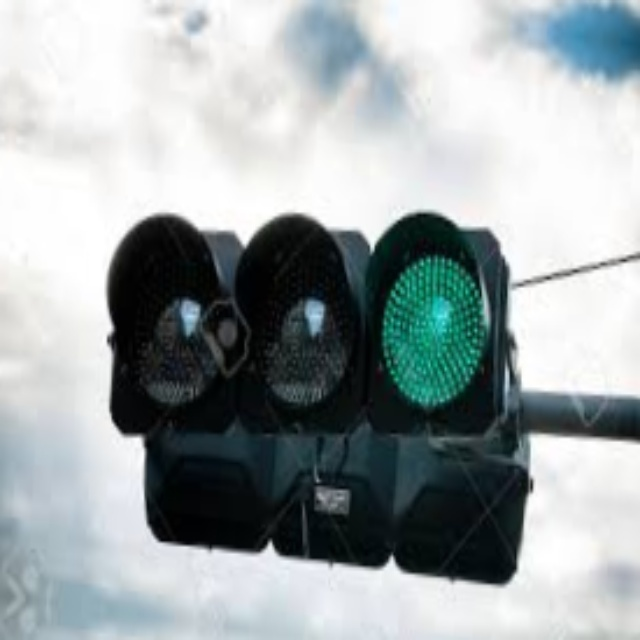green_light: (376, 247, 495, 413)
